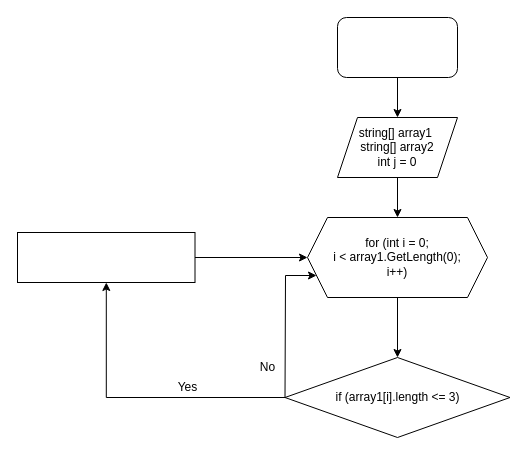
This 528x455 diagram has some shape labels left out. The shapes that lost their labels are listed below. From the top down, each one's centre as x and y in pixels, then its label:
At [397,47]: "NewArray".
At [105,257]: "array2[j] = array1[i] j++;".
